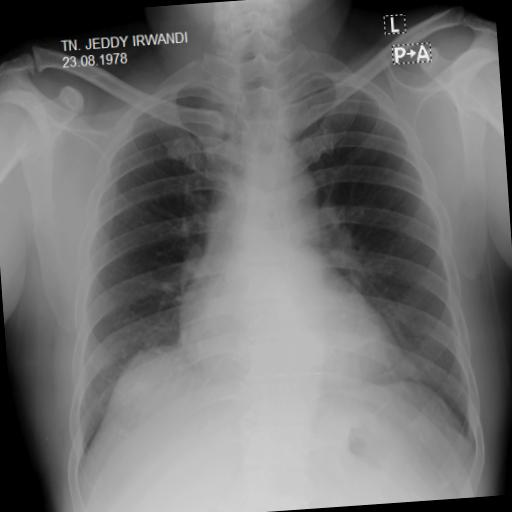kardiomegali: (32, 34, 487, 488)
